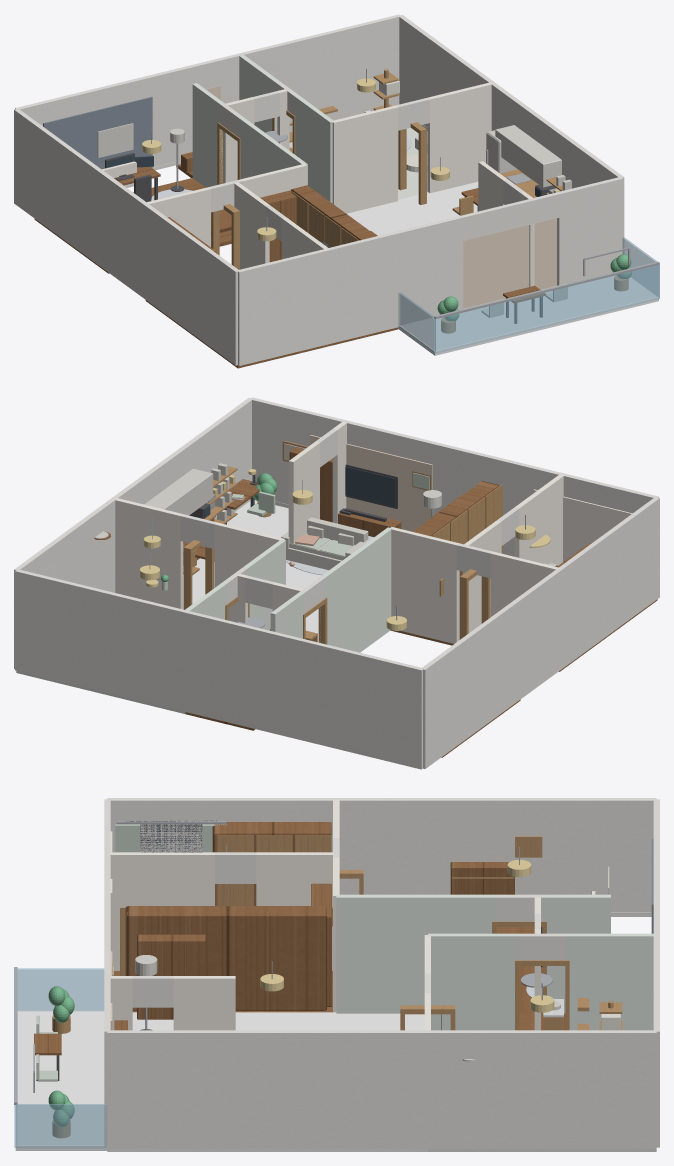
The model's file is room.glb.
3 views of the same model, one above another, from view 1: azimuth 30°, elevation 25°; view 2: azimuth 150°, elevation 25°; view 3: azimuth 270°, elevation 25° (orthographic). The views are drawn at different scales.
Visible parts, largest first — view 1: OuterW_0, OuterN_0, OuterS_0, OuterE_0, BalconyRailFront, BalconyFloor, CatLiving_0, OuterN_1, FeatureTvWall, CatLiving_1, FeatureGameWall, FloorLiving (+28 smaller); view 2: OuterS_0, OuterW_0, OuterE_0, OuterN_0, BedLiving_1, LeftHall_0, CatLiving_1, OuterN_1, FeatureTvWall, ClosetWall_0, FloorLiving, CatLiving_0 (+23 smaller); view 3: OuterE_0, OuterW_0, ClosetWard1, LeftHall_0, BalconyFloor, CatHall_0, CatHall_1, ClosetWall_0, FloorLiving, BalconyRailR, ClosetWall_1, StudyWall_1 (+25 smaller).
Part boxes in pixels (x1,y1,x2,y2): OuterW_0: (14, 109, 238, 365); OuterN_0: (237, 216, 463, 365); OuterS_0: (15, 14, 400, 167); OuterE_0: (399, 15, 624, 253); BalconyRailFront: (434, 265, 659, 353); BalconyFloor: (398, 275, 658, 355); CatLiving_0: (332, 105, 397, 213); OuterN_1: (557, 176, 623, 285); FeatureTvWall: (463, 218, 556, 308); CatLiving_1: (427, 82, 493, 193); FeatureGameWall: (43, 96, 152, 169); FloorLiving: (347, 181, 478, 235); OuterS_0: (15, 569, 423, 769); OuterW_0: (422, 497, 659, 768); OuterE_0: (14, 398, 252, 668); OuterN_0: (419, 439, 658, 556); BedLiving_1: (390, 527, 459, 643); LeftHall_0: (319, 527, 392, 652); CatLiving_1: (114, 498, 183, 609); OuterN_1: (250, 397, 319, 504); FeatureTvWall: (310, 435, 432, 531); ClosetWall_0: (514, 474, 564, 564); FloorLiving: (183, 500, 390, 652); CatLiving_0: (214, 522, 284, 621); OuterE_0: (107, 1030, 656, 1148); OuterW_0: (107, 798, 656, 912); ClosetWard1: (125, 906, 326, 1010); LeftHall_0: (336, 894, 496, 1013); BalconyFloor: (15, 1010, 107, 1150); CatHall_0: (428, 933, 519, 1030); CatHall_1: (565, 933, 656, 1030); ClosetWall_0: (109, 852, 214, 970); FloorLiving: (107, 1012, 427, 1151); BalconyRailR: (15, 1104, 106, 1148); ClosetWall_1: (256, 852, 336, 970); StudyWall_1: (173, 976, 235, 1030).
Size of the model in its own units: 12.19 by 2.9 by 14.11.
Materials: 25 (9 with a texture image).
